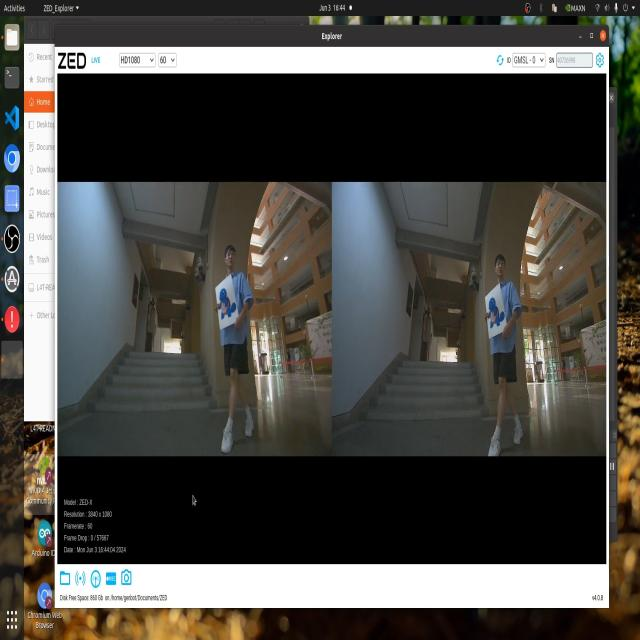blue: (210, 284, 234, 320), (490, 292, 501, 331)
